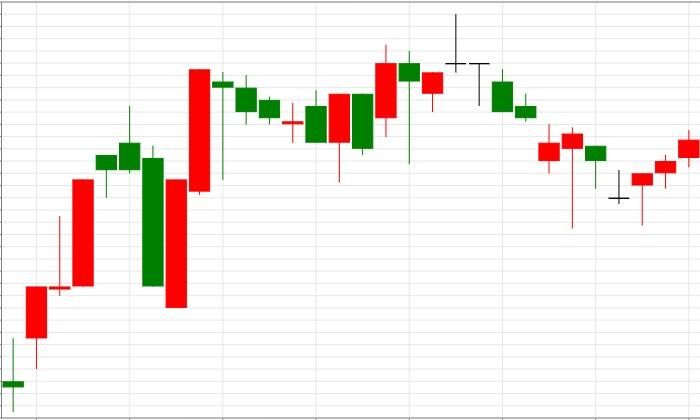shooting_star_fall: (2, 105, 141, 412)
